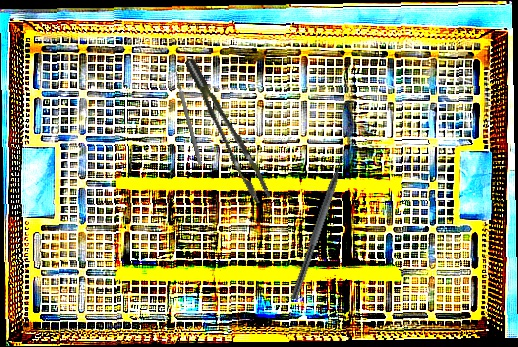Chopper: (290, 146, 357, 304)
Surgical Spoon: (169, 57, 204, 166)
Tissue Forceps: (184, 50, 272, 210)
